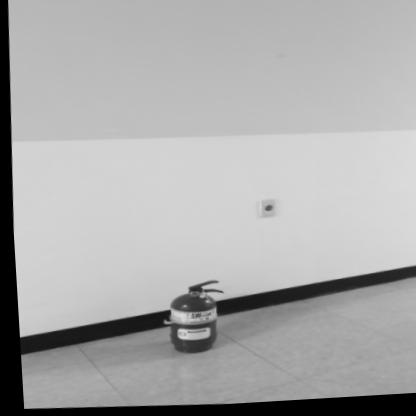FE: (161, 279, 220, 356)
